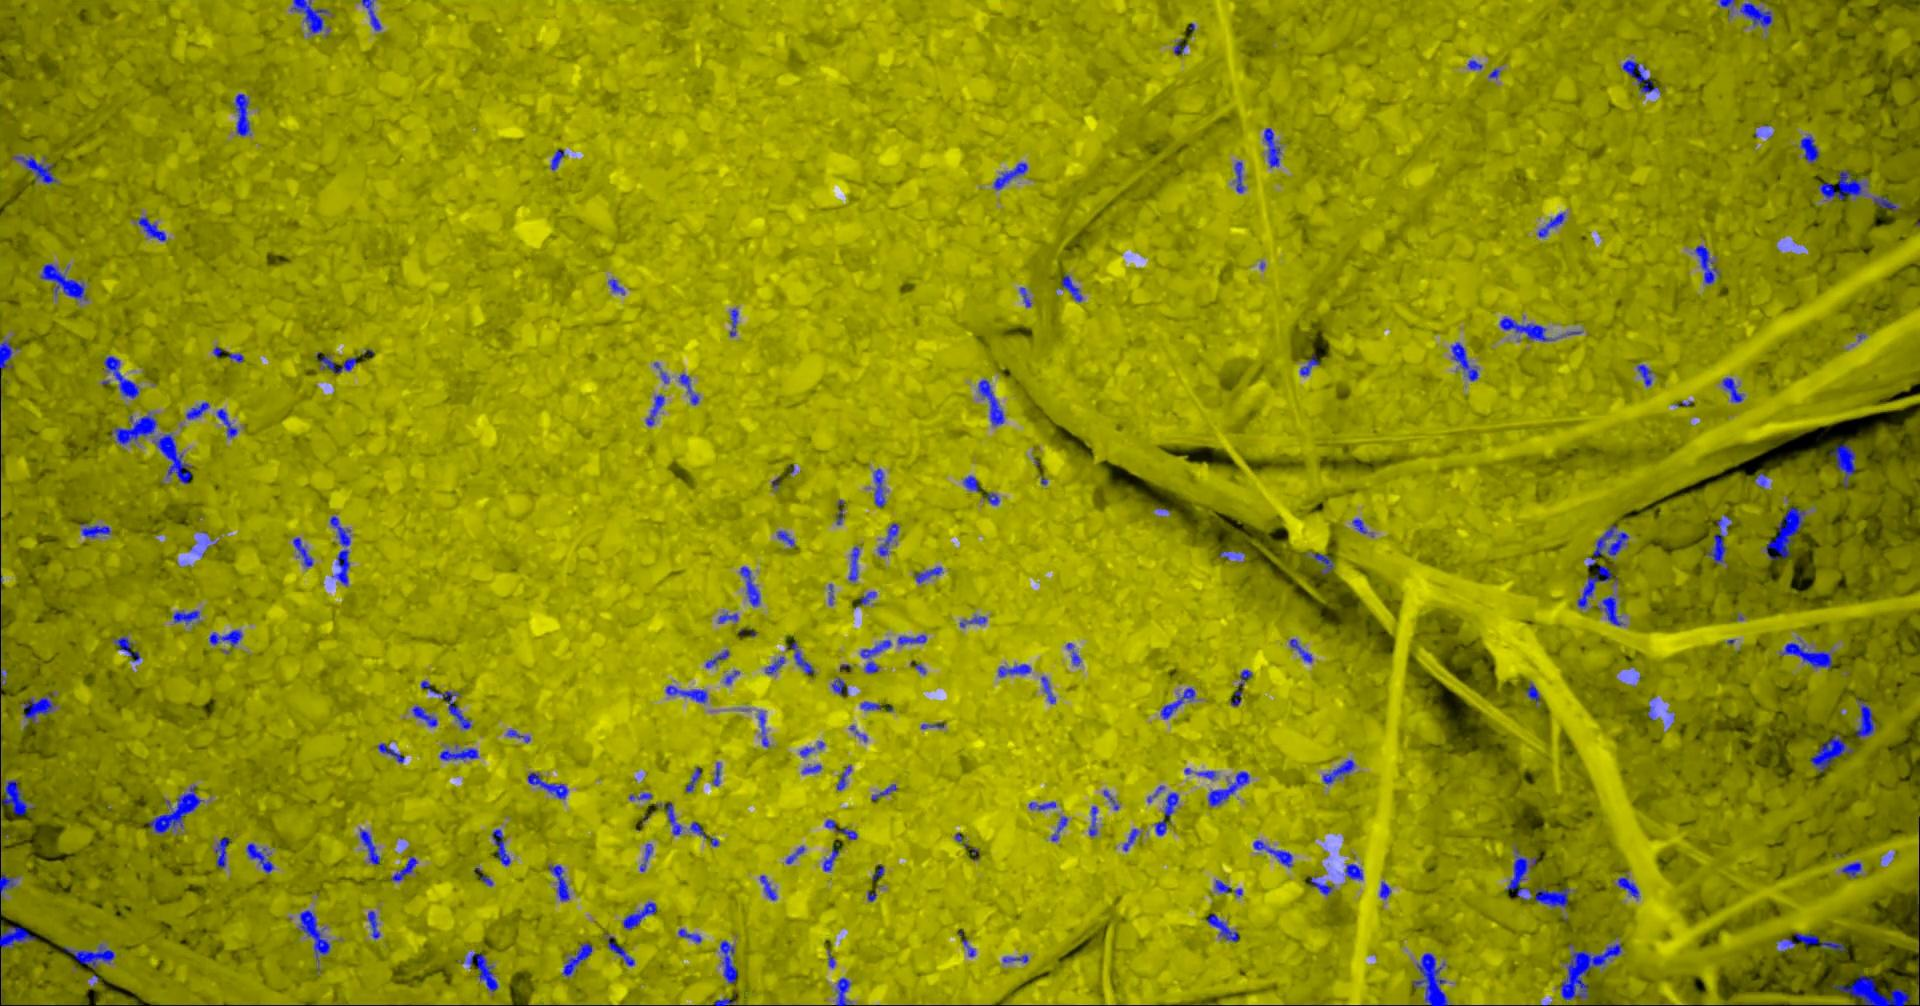ant: (147, 785, 201, 833), (420, 680, 471, 729), (1831, 973, 1910, 1005), (1764, 506, 1804, 559), (1498, 316, 1582, 340), (152, 432, 190, 483), (1412, 951, 1448, 1005), (1576, 564, 1617, 608), (1587, 525, 1628, 567), (39, 263, 86, 298), (1505, 846, 1537, 898), (1810, 733, 1853, 771), (298, 909, 329, 962), (103, 354, 138, 398), (329, 514, 350, 586), (110, 412, 156, 445), (1208, 771, 1250, 807), (1780, 639, 1831, 668), (1818, 170, 1865, 199), (1622, 58, 1660, 94), (1775, 932, 1844, 951), (290, 0, 329, 33), (1705, 514, 1732, 563), (11, 155, 57, 183), (978, 379, 1004, 426), (466, 951, 497, 991), (63, 944, 114, 967), (0, 779, 32, 814), (0, 925, 36, 956), (1450, 342, 1478, 381), (1252, 840, 1291, 868), (1830, 443, 1855, 486), (860, 639, 891, 673), (1161, 687, 1194, 719), (527, 772, 568, 798), (22, 692, 55, 723), (1694, 245, 1719, 283), (561, 942, 590, 976), (993, 163, 1027, 191), (622, 901, 657, 929), (315, 351, 356, 373), (786, 641, 814, 674), (1206, 913, 1238, 941), (606, 934, 634, 965), (246, 842, 273, 873), (739, 567, 759, 606), (1738, 3, 1771, 27), (1597, 596, 1624, 625), (719, 940, 737, 983), (1322, 760, 1354, 784), (1230, 669, 1251, 706), (359, 828, 380, 865), (549, 864, 569, 901), (665, 685, 707, 702), (1534, 887, 1570, 907), (390, 855, 417, 882), (1537, 212, 1564, 238), (137, 216, 165, 241), (491, 828, 510, 865), (1855, 697, 1873, 737), (877, 522, 898, 555), (1263, 127, 1280, 166), (824, 819, 856, 840), (234, 93, 249, 135), (216, 408, 237, 437), (361, 0, 381, 30), (678, 373, 698, 404), (114, 636, 140, 661), (208, 629, 243, 647), (645, 394, 664, 426), (292, 537, 312, 567), (663, 801, 681, 835), (1062, 273, 1082, 301), (1799, 133, 1818, 163), (0, 340, 19, 370), (1721, 377, 1743, 401), (411, 705, 437, 727), (377, 742, 404, 762), (1289, 638, 1310, 662), (872, 467, 885, 507), (957, 929, 975, 956), (79, 523, 110, 539), (1307, 876, 1332, 895), (1617, 876, 1638, 898), (215, 837, 230, 868), (914, 567, 942, 583), (997, 663, 1030, 677), (822, 845, 838, 871), (1299, 353, 1319, 375), (1312, 553, 1333, 573), (439, 748, 477, 760), (185, 401, 210, 419), (705, 649, 729, 667), (871, 784, 897, 800), (759, 875, 776, 901), (1040, 676, 1055, 702), (684, 766, 700, 793), (1050, 815, 1067, 840), (757, 711, 768, 746), (836, 977, 850, 1005), (799, 741, 824, 756), (836, 765, 851, 790), (0, 871, 15, 897), (1123, 828, 1139, 851), (959, 614, 985, 627), (764, 655, 783, 674), (1183, 767, 1215, 779), (690, 821, 710, 838), (1872, 196, 1897, 210), (171, 610, 199, 622), (639, 843, 651, 871), (848, 546, 858, 580), (1163, 793, 1178, 815), (785, 845, 804, 862), (1343, 862, 1363, 880), (1065, 641, 1079, 666), (897, 634, 926, 645), (367, 909, 378, 939), (1636, 365, 1651, 386), (1525, 682, 1540, 704), (678, 929, 701, 942), (776, 530, 794, 547), (1234, 161, 1244, 192), (1841, 861, 1862, 876), (505, 729, 530, 742), (1351, 518, 1370, 533), (550, 149, 564, 169), (1718, 0, 1735, 17), (963, 475, 979, 492), (830, 677, 847, 694), (1088, 805, 1097, 836), (1018, 287, 1031, 307), (607, 278, 623, 293), (982, 492, 999, 506), (858, 591, 876, 605), (1029, 801, 1055, 810), (836, 499, 844, 525), (729, 307, 737, 337), (1173, 38, 1186, 55), (801, 763, 822, 774), (1154, 817, 1166, 835), (1002, 954, 1029, 962), (717, 612, 737, 622), (1214, 879, 1229, 892), (1379, 882, 1390, 898), (1219, 550, 1243, 558), (860, 701, 880, 710), (712, 762, 720, 785), (629, 793, 651, 800), (1467, 58, 1482, 69), (712, 997, 733, 1005)
